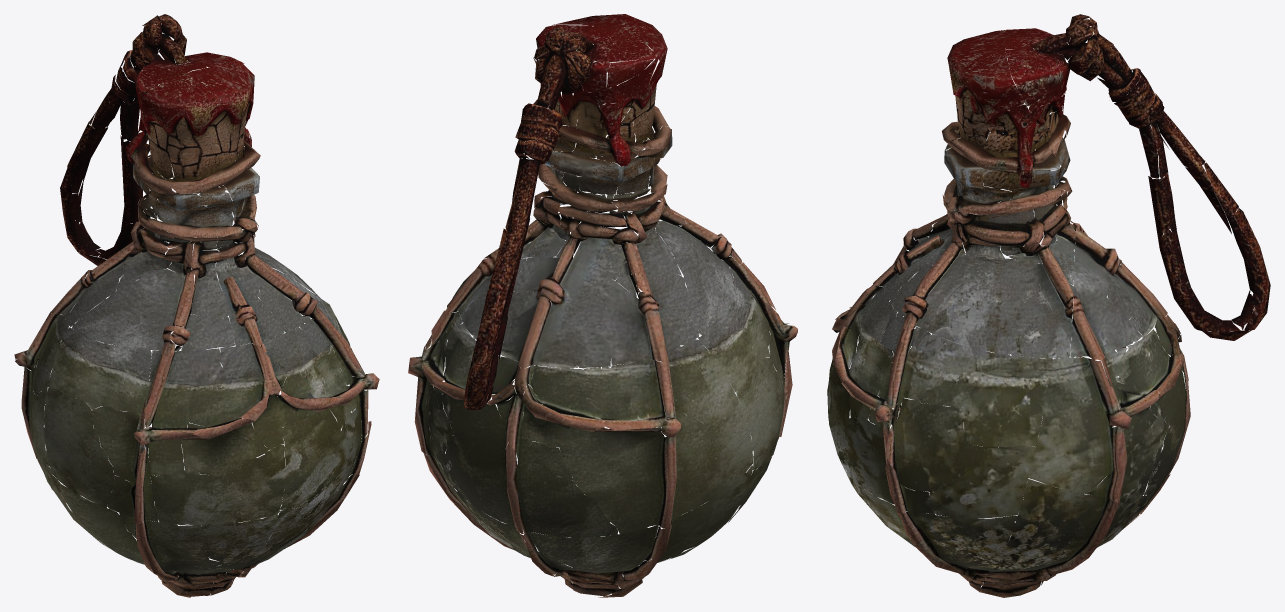
File: w_sera_vial.glb
3 renders of one model, left to right at view 1: azimuth 30°, elevation 25°; view 2: azimuth 150°, elevation 25°; view 3: azimuth 270°, elevation 25°, orthographic. The views are drawn at different scales.
Visible parts, largest first — view 1: tripo_node_961d0993-41d4-4aa4-8512-9bbf9dd5a042; view 2: tripo_node_961d0993-41d4-4aa4-8512-9bbf9dd5a042; view 3: tripo_node_961d0993-41d4-4aa4-8512-9bbf9dd5a042.
Part boxes in pixels (box(x1,y1,x2,y2)): tripo_node_961d0993-41d4-4aa4-8512-9bbf9dd5a042: box(14, 14, 379, 597); tripo_node_961d0993-41d4-4aa4-8512-9bbf9dd5a042: box(408, 14, 797, 597); tripo_node_961d0993-41d4-4aa4-8512-9bbf9dd5a042: box(827, 14, 1270, 597).
Size of the model in its own units: 0.1237 by 0.22 by 0.156.
Materials: 1 (1 with a texture image).
